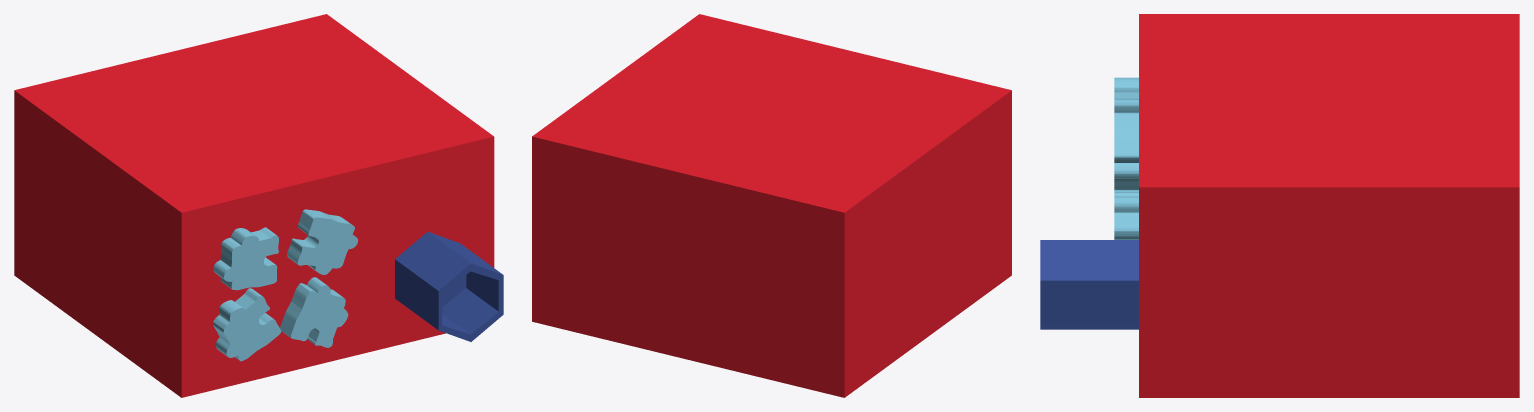
Rendered from tinker.obj.
The picture shows the model from 3 angles, left to right: view 1: azimuth 30°, elevation 25°; view 2: azimuth 150°, elevation 25°; view 3: azimuth 270°, elevation 25°; orthographic projection. The views are drawn at different scales.
Parts seen in each view (by area): view 1: group_0_15277357, group_0_8768998, group_0_3888547; view 2: group_0_15277357; view 3: group_0_15277357, group_0_3888547, group_0_8768998.
Boxes of the visible parts, x1,y1,x2,y2 form: group_0_15277357: (14,14,494,397); group_0_8768998: (213,209,357,361); group_0_3888547: (395,231,503,341); group_0_15277357: (532,14,1011,397); group_0_15277357: (1139,14,1519,397); group_0_3888547: (1040,240,1138,329); group_0_8768998: (1114,77,1138,239).
Bounding box in the file's own units: 83 × 52 × 97.
